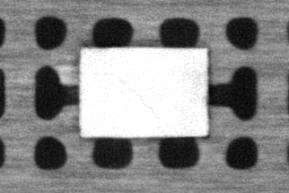DIE_CRACK: (121, 79, 161, 118)
